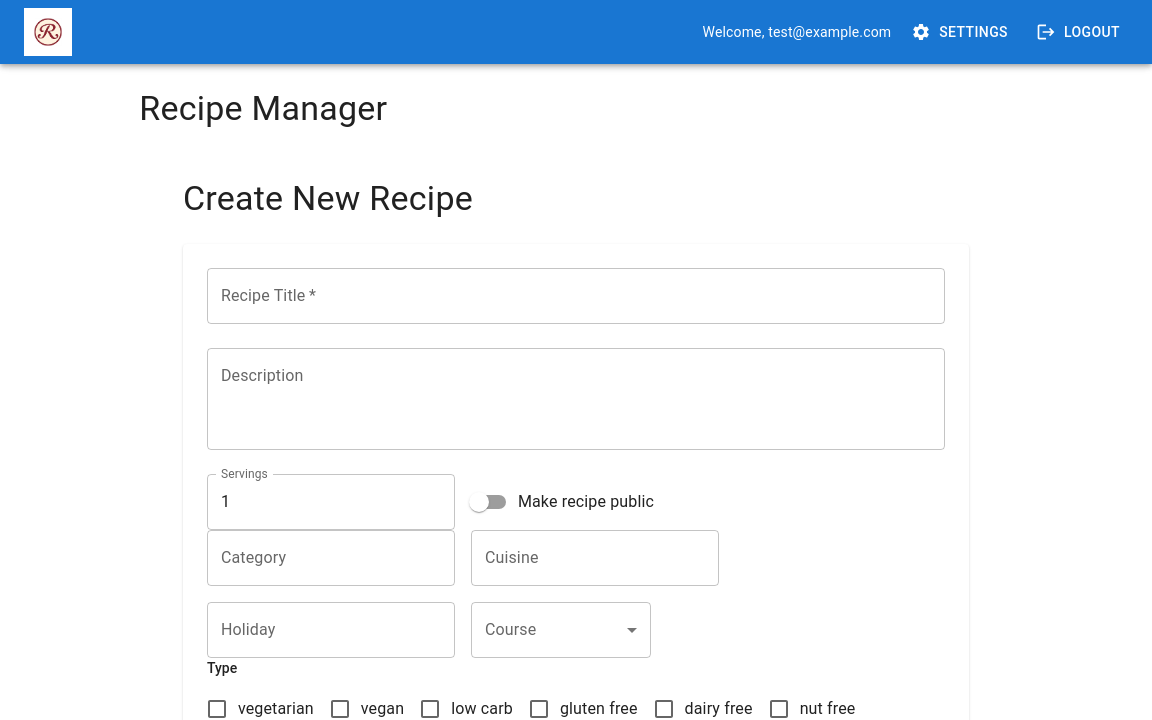
RecipeEditPage › New recipe fields › includes "bread" in the Course dropdown options
Press the mouse on the dropdown named "Course" at coordinates (561, 630), box x1=471 y1=602 x2=651 y2=658
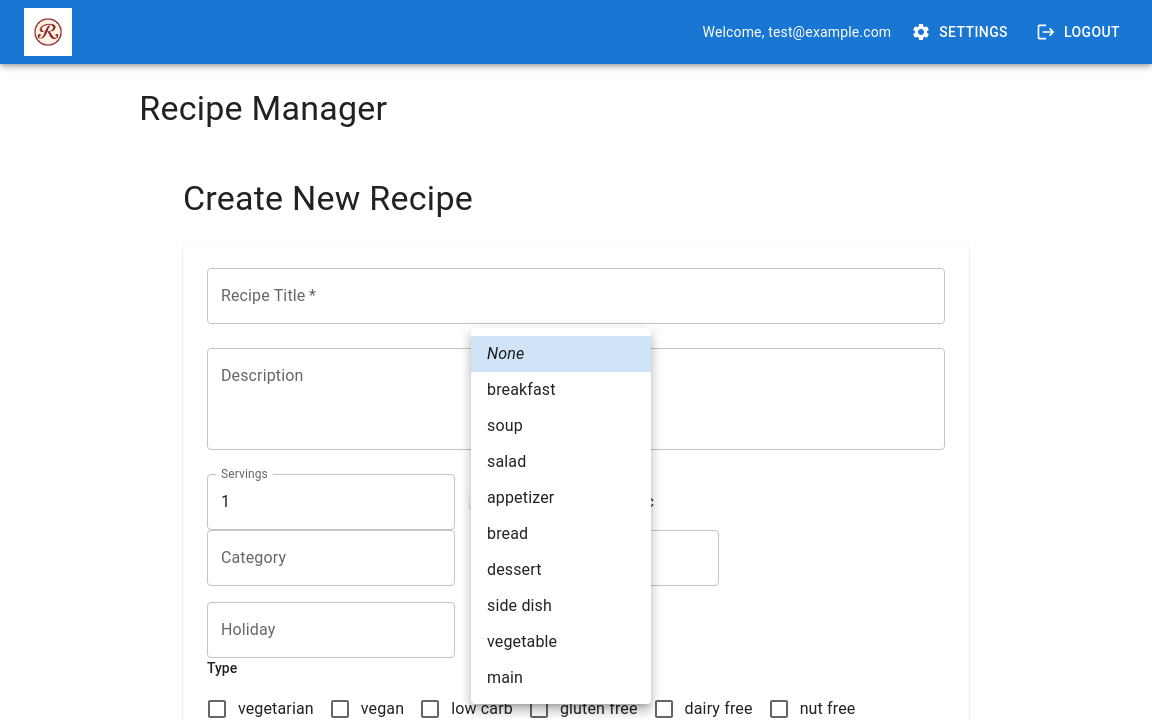
Expected: the option "bread" is shown, x1=487 y1=524 x2=528 y2=543
